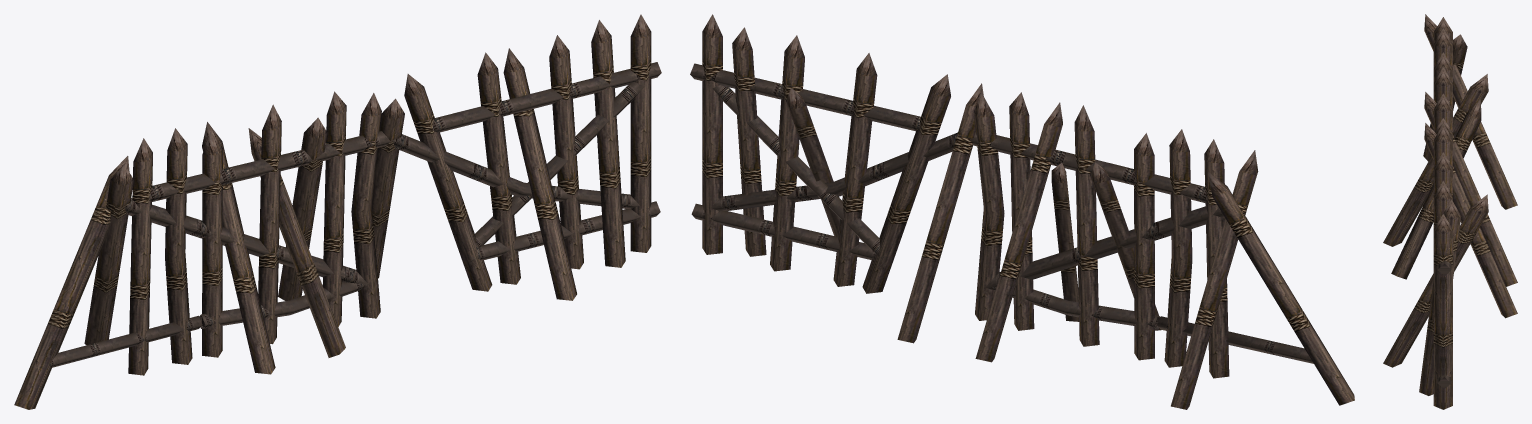
The model's file is poweilan_yc_42.FBX.
3 renders of one model, left to right at view 1: azimuth 30°, elevation 25°; view 2: azimuth 150°, elevation 25°; view 3: azimuth 270°, elevation 25°, orthographic. The views are drawn at different scales.
Parts seen in each view (by area): view 1: poweilan_yc_42; view 2: poweilan_yc_42; view 3: poweilan_yc_42.
Boxes of the visible parts, x1,y1,x2,y2 form: poweilan_yc_42: (14,14,661,409); poweilan_yc_42: (690,14,1354,409); poweilan_yc_42: (1383,14,1517,409).
Size of what is drawn, in the model's own units: 967 by 345 by 212.
